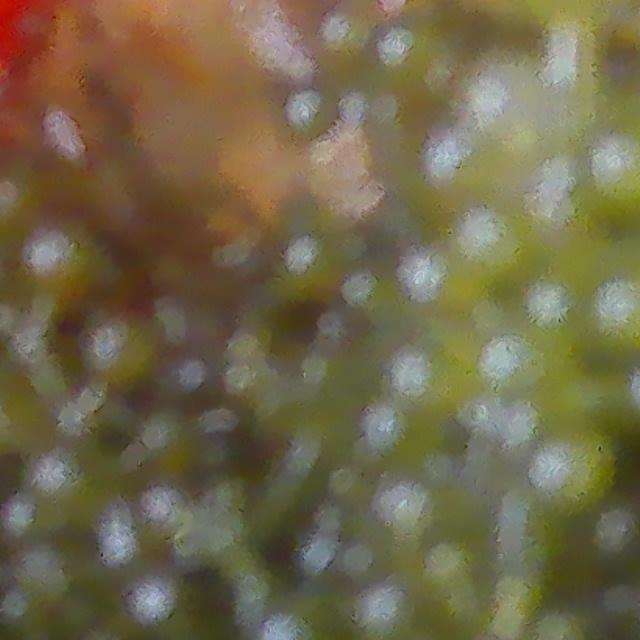SeaGrape: (534, 438, 606, 518), (434, 134, 511, 207), (466, 71, 541, 143), (483, 343, 555, 416), (525, 280, 585, 367), (587, 129, 640, 210), (460, 222, 523, 275)
